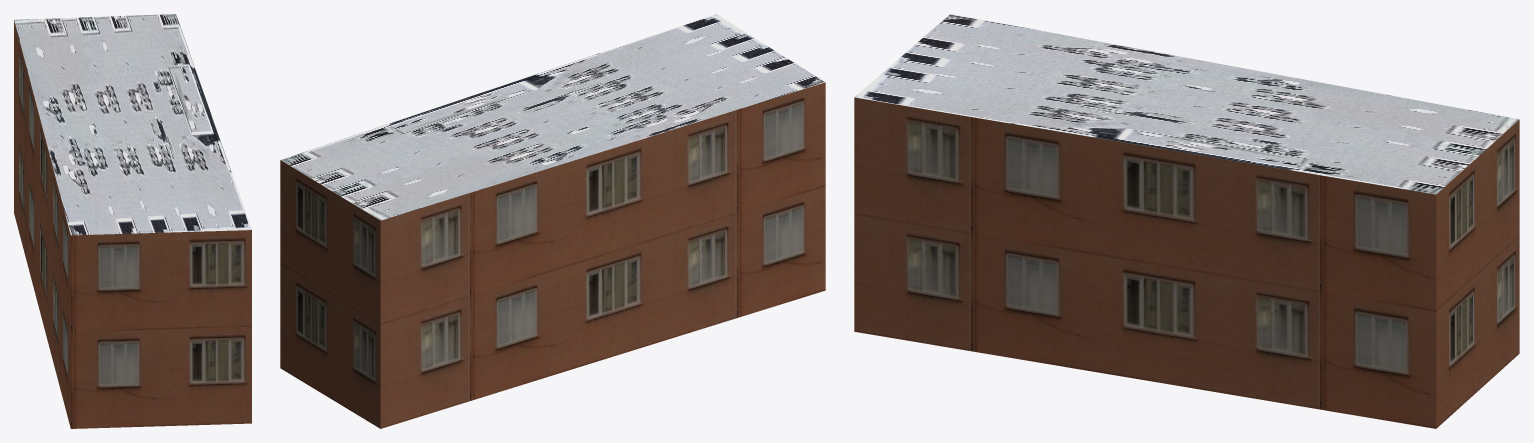
The model's file is ResTex__2255.fbx.
3 renders of one model, left to right at view 1: azimuth 30°, elevation 25°; view 2: azimuth 150°, elevation 25°; view 3: azimuth 270°, elevation 25°, orthographic. The views are drawn at different scales.
Parts seen in each view (by area): view 1: CityEngineMaterial_20_m, CityEngineMaterial_m; view 2: CityEngineMaterial_20_m, CityEngineMaterial_m; view 3: CityEngineMaterial_20_m, CityEngineMaterial_m.
Boxes of the visible parts, left/top/right/bottom form: CityEngineMaterial_20_m: left=14, top=20, right=251, bottom=428; CityEngineMaterial_m: left=14, top=14, right=251, bottom=235; CityEngineMaterial_20_m: left=280, top=82, right=825, bottom=428; CityEngineMaterial_m: left=281, top=14, right=825, bottom=220; CityEngineMaterial_20_m: left=854, top=97, right=1519, bottom=428; CityEngineMaterial_m: left=854, top=14, right=1519, bottom=194.
Bounding box in the file's own units: 9.93 × 6 × 15.44.
Materials: 2 (2 with a texture image).
